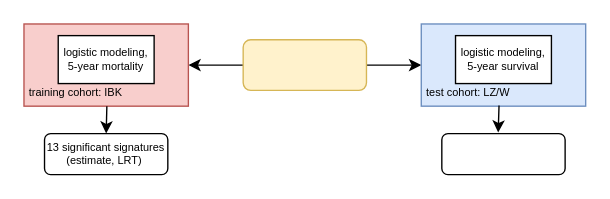
Image size: 610x199. Some labels were removed from this diagram. The shapes that lost their labels are listed below. From the top down, each one's centre as x and y in pixels, then its label:
pixel 304 64: 13 risk signatures for overall survival
pixel 502 153: 3 significant signatures (estimate, LRT)
